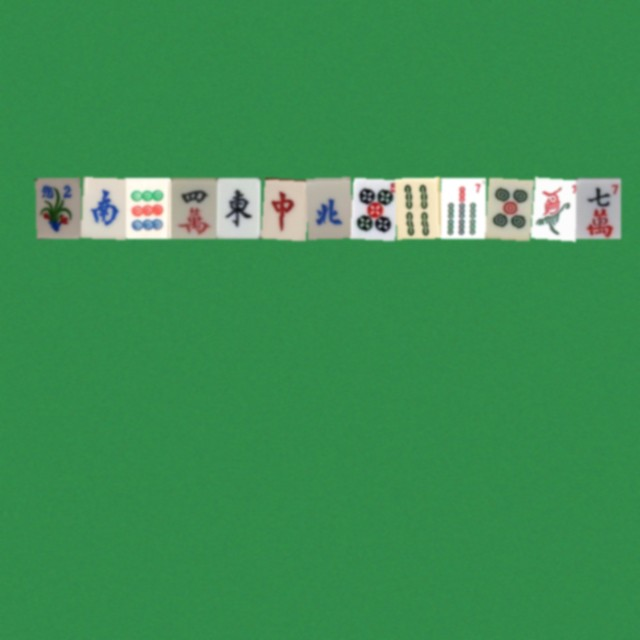tile: (35, 177, 80, 238), (80, 177, 125, 238), (125, 177, 170, 238), (170, 177, 215, 238), (215, 177, 260, 238), (260, 177, 305, 238), (305, 177, 350, 238), (350, 177, 395, 238), (395, 177, 440, 238), (440, 177, 485, 238), (485, 177, 530, 238), (530, 177, 575, 238), (575, 177, 620, 238)
